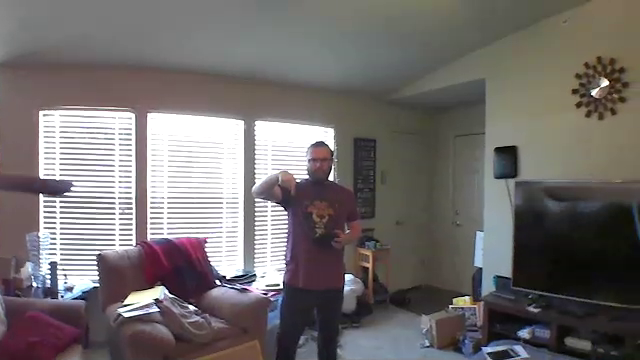down: (274, 166, 300, 196)
